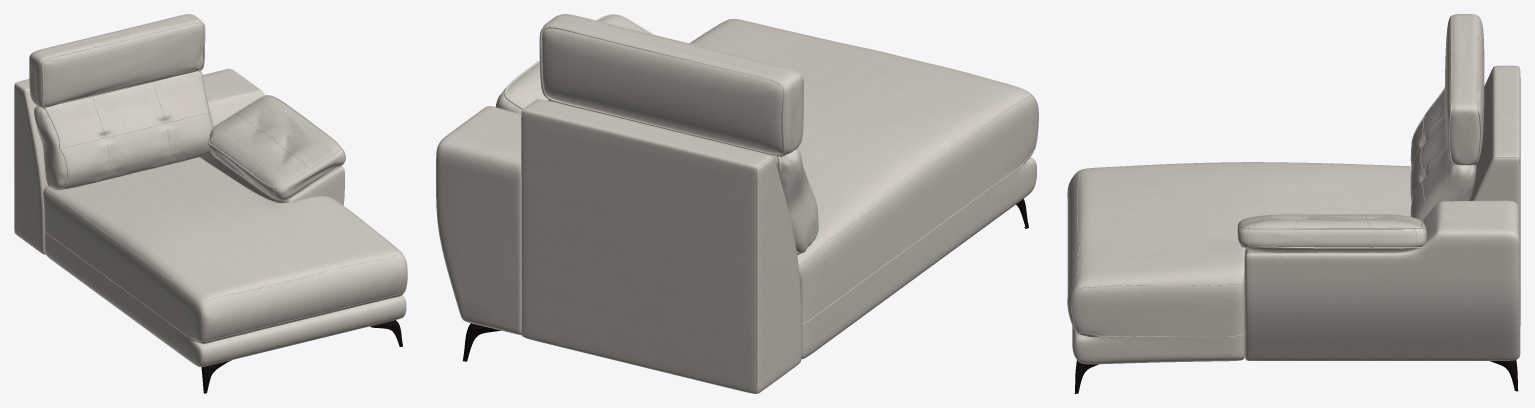
File: chaise.glb
3 renders of one model, left to right at view 1: azimuth 30°, elevation 25°; view 2: azimuth 150°, elevation 25°; view 3: azimuth 270°, elevation 25°, orthographic. The views are drawn at different scales.
Visible parts, largest first — view 1: D=~ 0,01 m, pé; view 2: D=~ 0,01 m, pé; view 3: D=~ 0,01 m, pé.
Boxes of the visible parts, <box> form: D=~ 0,01 m: <box>14,14,407,366</box>; pé: <box>201,320,402,393</box>; D=~ 0,01 m: <box>436,14,1038,393</box>; pé: <box>463,199,1028,361</box>; D=~ 0,01 m: <box>1067,14,1520,364</box>; pé: <box>1074,360,1518,393</box>.
Size of the model in its own units: 1.11 by 1.06 by 1.64.
Materials: 2 (1 with a texture image).
